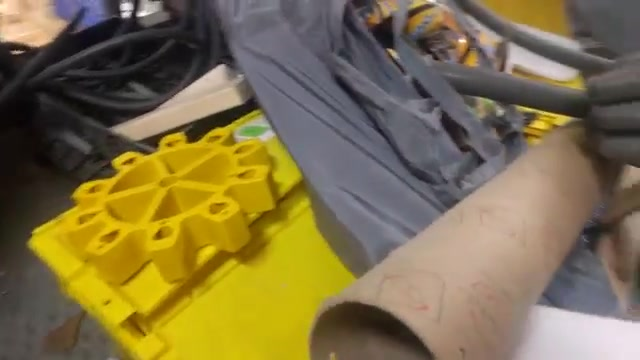gear: (61, 114, 266, 289)
